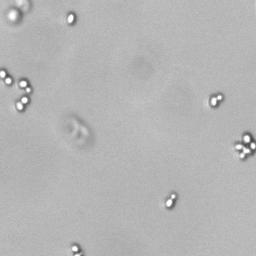budding: (207, 91, 223, 108), (14, 96, 29, 112), (18, 78, 32, 95), (164, 191, 177, 209), (1, 69, 12, 85)
individual: (66, 12, 75, 25)
